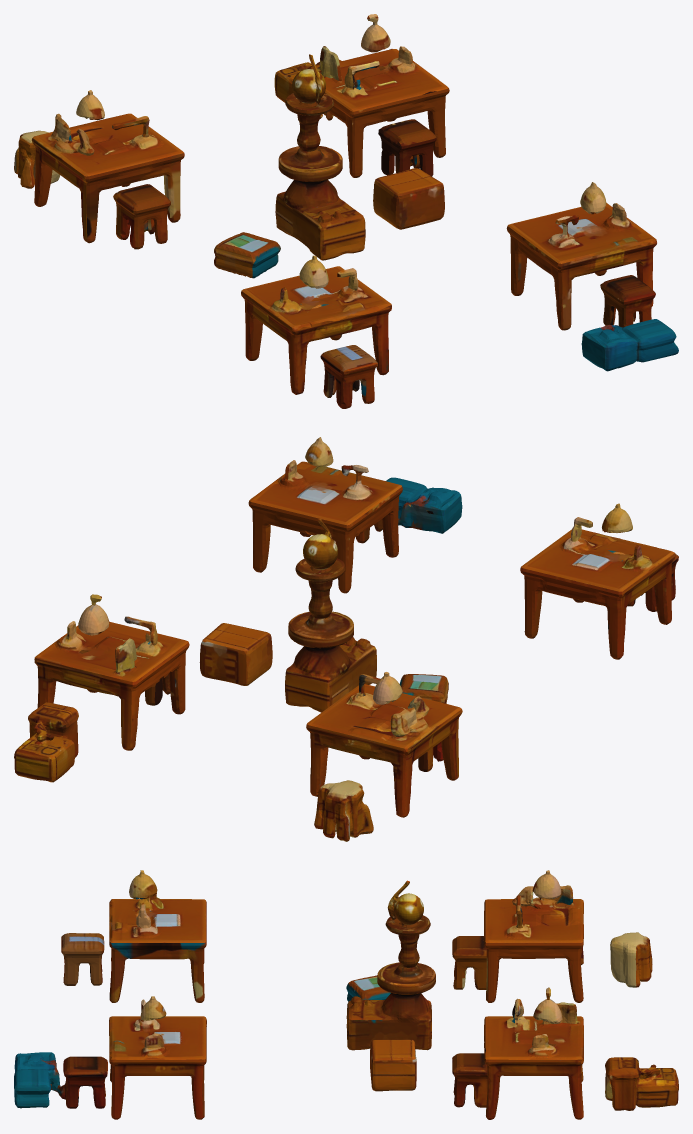
File: Library.glb
3 views of the same model, one above another, from view 1: azimuth 30°, elevation 25°; view 2: azimuth 150°, elevation 25°; view 3: azimuth 270°, elevation 25° (orthographic). The views are drawn at different scales.
Parts seen in each view (by area): view 1: tmpl_12om3t; view 2: tmpl_12om3t; view 3: tmpl_12om3t.
Boxes of the visible parts, x1=… form: tmpl_12om3t: x1=14, y1=14, x2=678, y2=408; tmpl_12om3t: x1=14, y1=437, x2=678, y2=841; tmpl_12om3t: x1=14, y1=870, x2=678, y2=1119.
Bounding box in the file's own units: 1.14 × 0.5325 × 1.99.
1 material, 1 textured.
